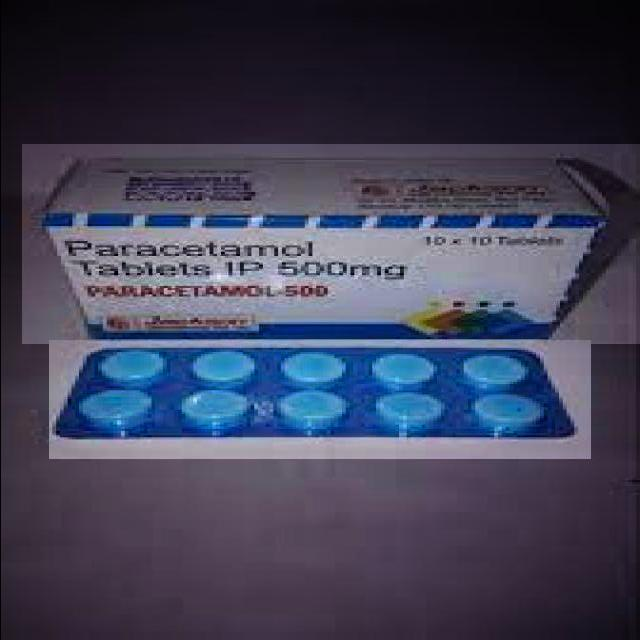authentic: (22, 144, 640, 344), (49, 340, 592, 459)
